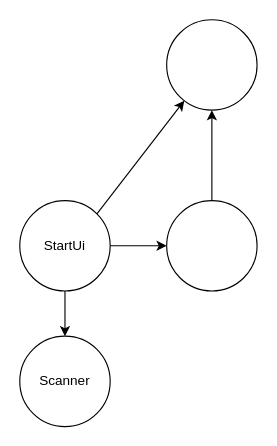
This 277x446 diagram has some shape labels left out. The box of each missing label's shape, as (x1, y1, x2, y2) in pixels:
Item: (166, 19, 257, 110)
Tracker: (166, 199, 257, 291)
